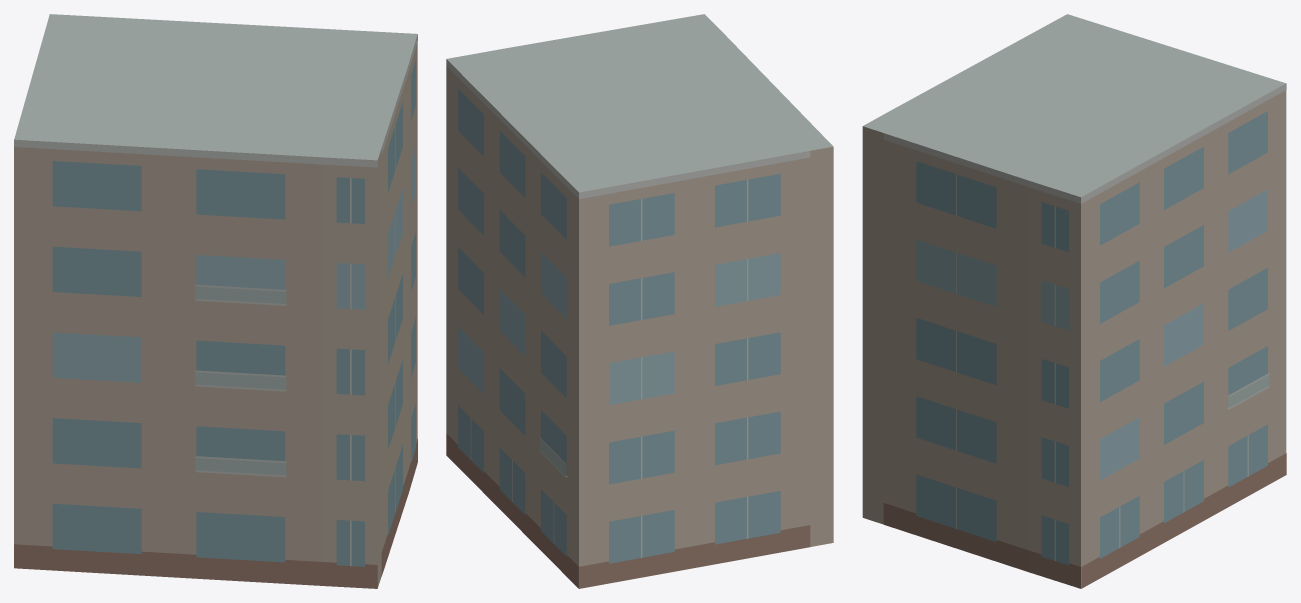
The model's file is survey-upis-32819775.glb.
The picture shows the model from 3 angles, left to right: view 1: azimuth 30°, elevation 25°; view 2: azimuth 150°, elevation 25°; view 3: azimuth 270°, elevation 25°; orthographic projection. The views are drawn at different scales.
Visible parts, largest first — view 1: survey-upis-32819775.tmp; view 2: survey-upis-32819775.tmp; view 3: survey-upis-32819775.tmp.
Boxes of the visible parts, <box> form: survey-upis-32819775.tmp: <box>14,14,417,588</box>; survey-upis-32819775.tmp: <box>446,14,833,588</box>; survey-upis-32819775.tmp: <box>862,14,1286,588</box>.
Size of the model in its own units: 14.62 by 14.55 by 14.28.
